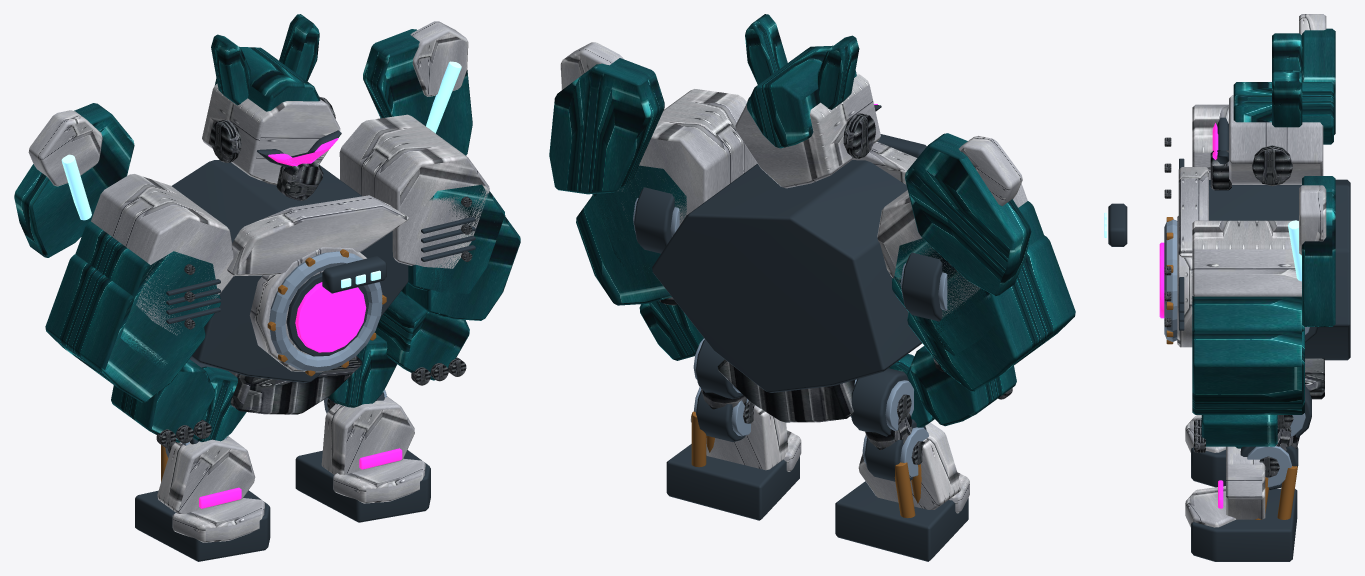
Rendered from sector_06_2.glb.
3 renders of one model, left to right at view 1: azimuth 30°, elevation 25°; view 2: azimuth 150°, elevation 25°; view 3: azimuth 270°, elevation 25°, orthographic. The views are drawn at different scales.
Visible parts, largest first — view 1: Navy crown, Upper chest plating, Reinforced heavy torso, Face guard, Greave armor, Greave armor.001, Reactor concentric ring, Reactor lens, Servo housing.001, Servo housing.004, Tapered thigh shield.001, Navigation light (+1 smaller); view 2: Navy crown, Reinforced heavy torso, Upper chest plating, Servo housing.001, Servo housing.004, Face guard, Greave armor, Greave armor.001, Bearing ring.002, Hub.002, Calf piston, Calf piston.002 (+4 smaller); view 3: Navy crown, Upper chest plating, Reinforced heavy torso, Servo housing.004, Greave armor.001, Face guard, Reactor concentric ring, Servo housing.001, Bearing ring.008, Hub.008, Calf piston.002, Reactor lens (+2 smaller).
Part boxes in pixels (<box>): Navy crown: <box>14,14,520,442</box>; Upper chest plating: <box>28,21,489,372</box>; Reinforced heavy torso: <box>166,130,475,382</box>; Face guard: <box>156,96,472,447</box>; Greave armor: <box>157,436,264,542</box>; Greave armor.001: <box>321,396,425,503</box>; Reactor concentric ring: <box>269,251,382,371</box>; Reactor lens: <box>268,138,366,352</box>; Servo housing.001: <box>135,357,270,561</box>; Servo housing.004: <box>295,392,430,522</box>; Tapered thigh shield.001: <box>327,334,397,407</box>; Navigation light: <box>61,61,461,288</box>; Navy crown: <box>549,14,1075,426</box>; Reinforced heavy torso: <box>634,105,942,392</box>; Upper chest plating: <box>560,42,1027,318</box>; Servo housing.001: <box>835,368,968,561</box>; Servo housing.004: <box>666,339,799,520</box>; Face guard: <box>659,97,1012,422</box>; Greave armor: <box>858,422,969,513</box>; Greave armor.001: <box>690,405,801,471</box>; Bearing ring.002: <box>850,379,928,477</box>; Hub.002: <box>865,394,924,464</box>; Calf piston: <box>894,462,921,518</box>; Calf piston.002: <box>691,411,714,467</box>; Navy crown: <box>1192,28,1335,446</box>; Upper chest plating: <box>1177,14,1326,347</box>; Reinforced heavy torso: <box>1108,117,1350,360</box>; Servo housing.004: <box>1191,385,1311,561</box>; Greave armor.001: <box>1185,446,1265,527</box>; Face guard: <box>1164,137,1324,452</box>; Reactor concentric ring: <box>1164,219,1309,341</box>; Servo housing.001: <box>1191,447,1225,487</box>; Bearing ring.008: <box>1247,413,1305,487</box>; Hub.008: <box>1259,415,1299,477</box>; Calf piston.002: <box>1255,466,1297,519</box>; Reactor lens: <box>1159,123,1218,318</box>.
Size of the model in its own units: 1.61 by 1.64 by 0.8095.
Materials: 8 (3 with a texture image).
